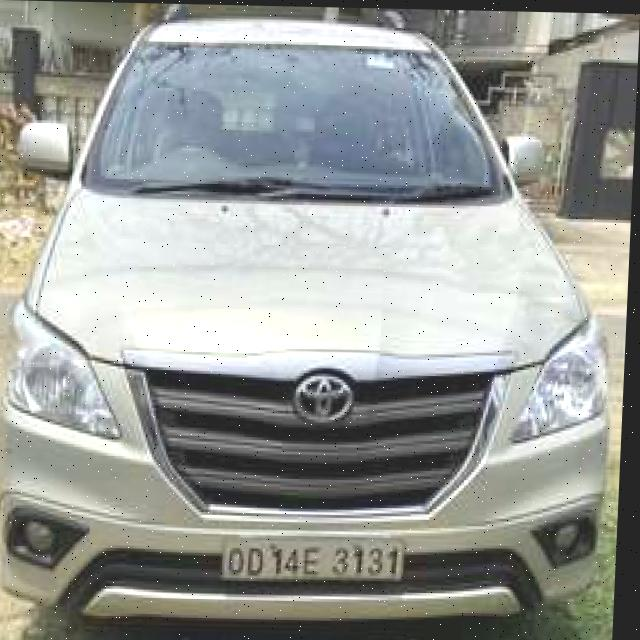plate: (226, 533, 411, 580)
